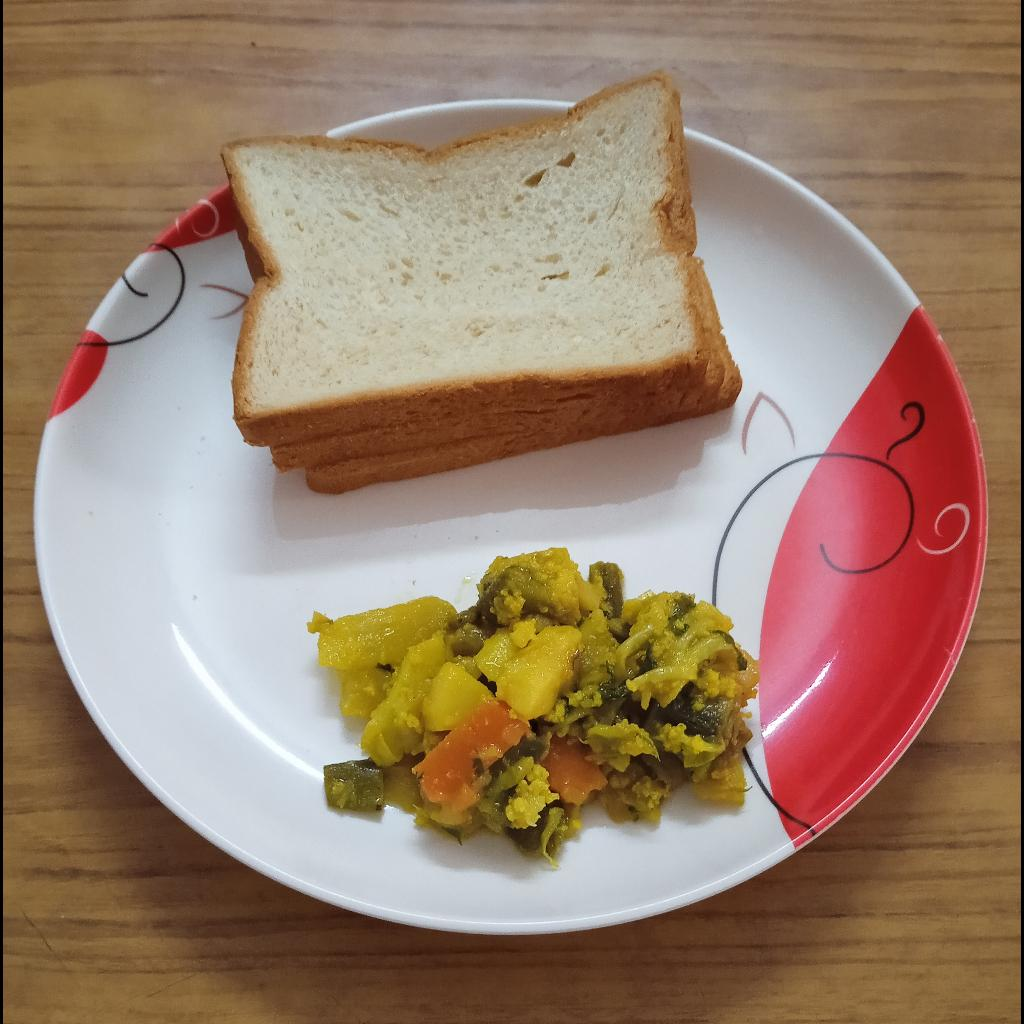bread: (216, 68, 745, 501)
vegetable: (308, 547, 759, 858)
